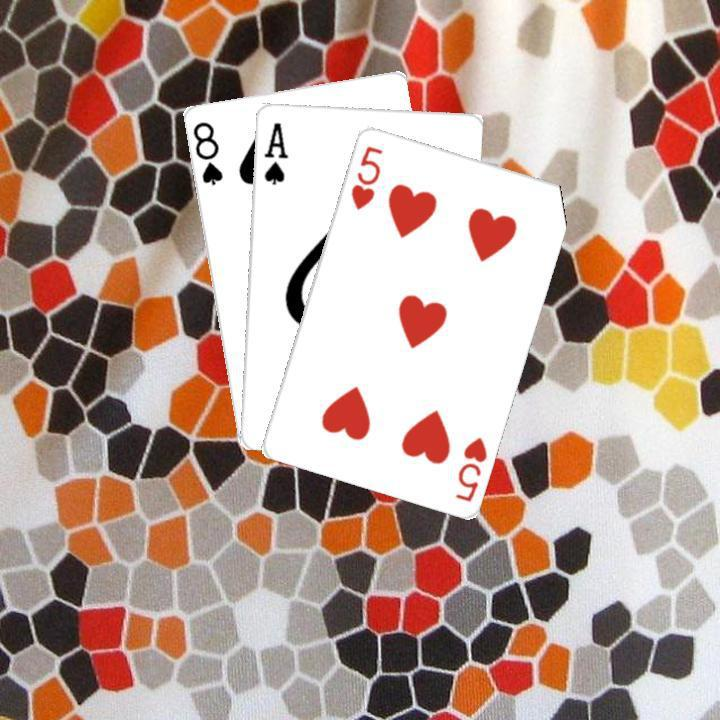5: (346, 141, 385, 211), (451, 432, 489, 503)
8: (188, 117, 224, 187)
A: (258, 117, 290, 186)
